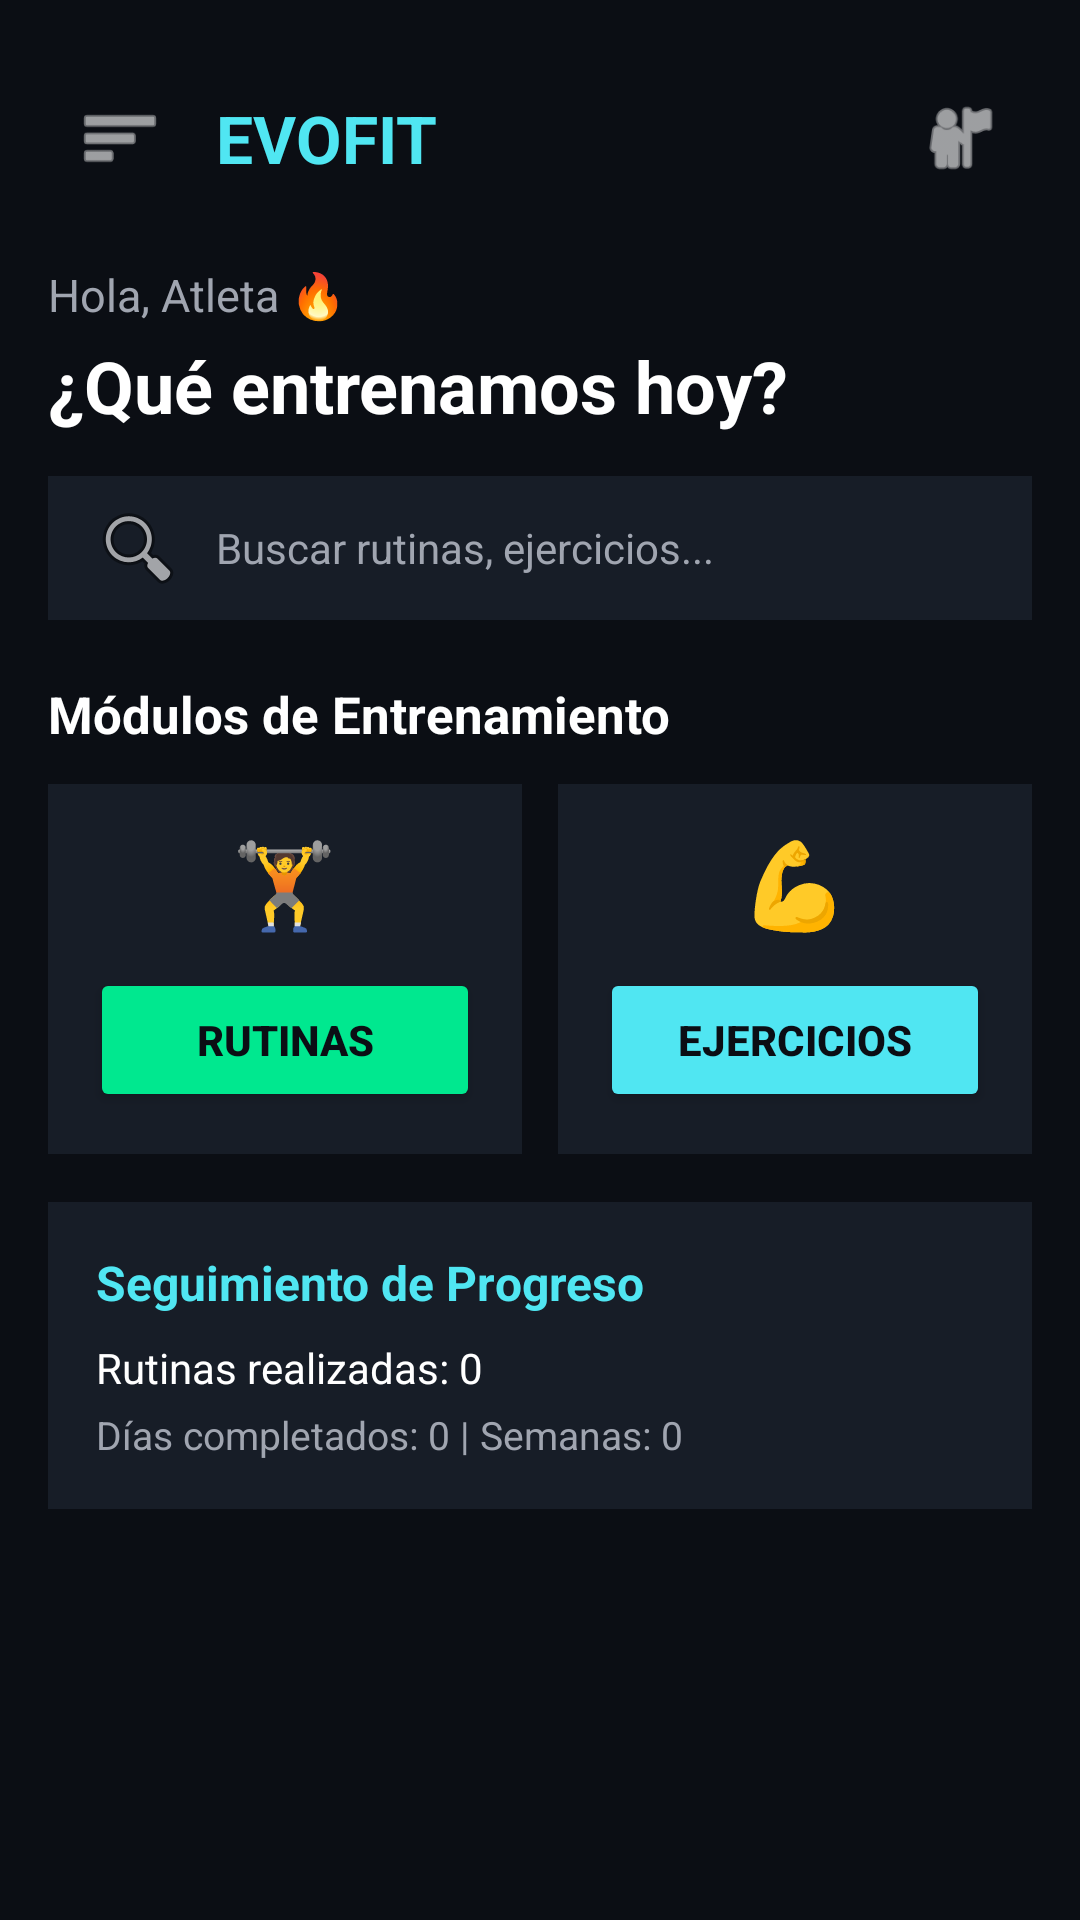

Where to tap for icons on this 1080x1920 app screen, as [x,y]:
Abrir menú: [120,138]
